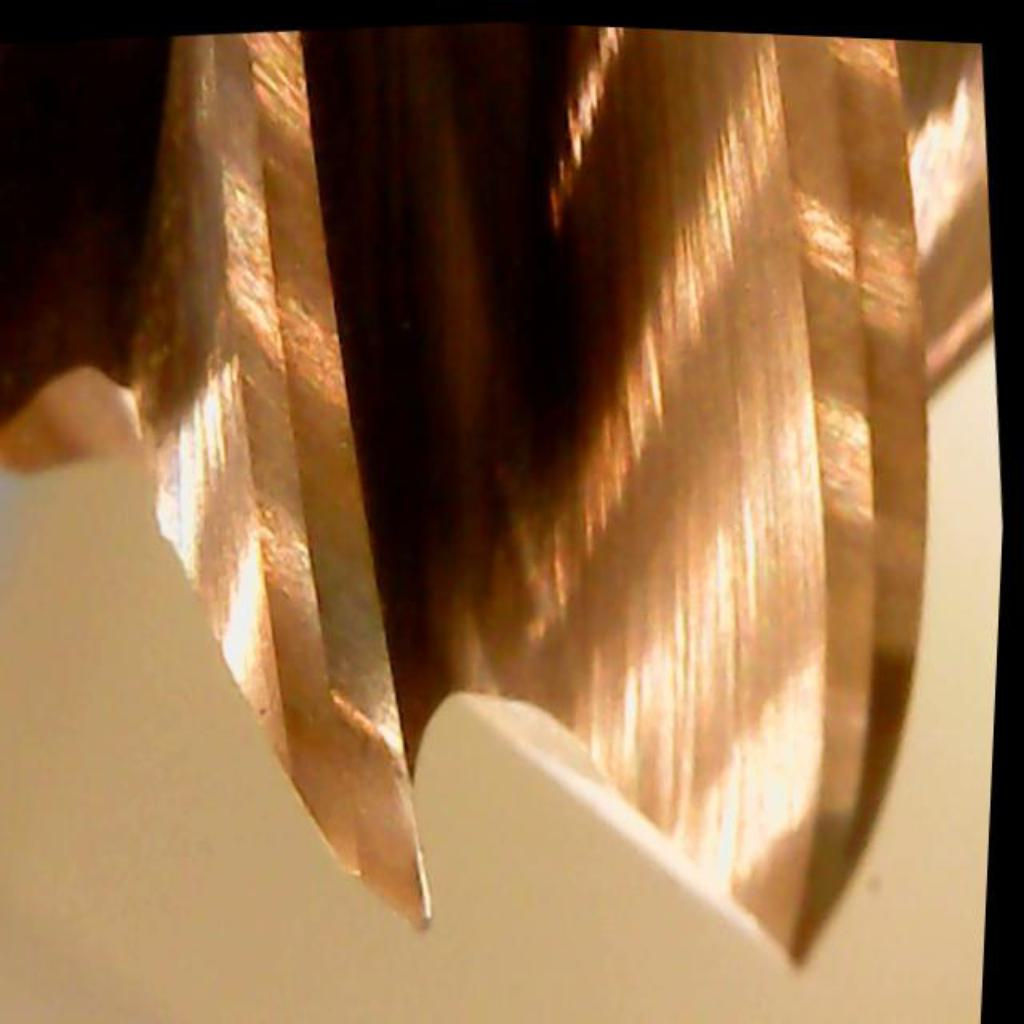Tool-wear-class-0: (200, 312, 485, 947)
